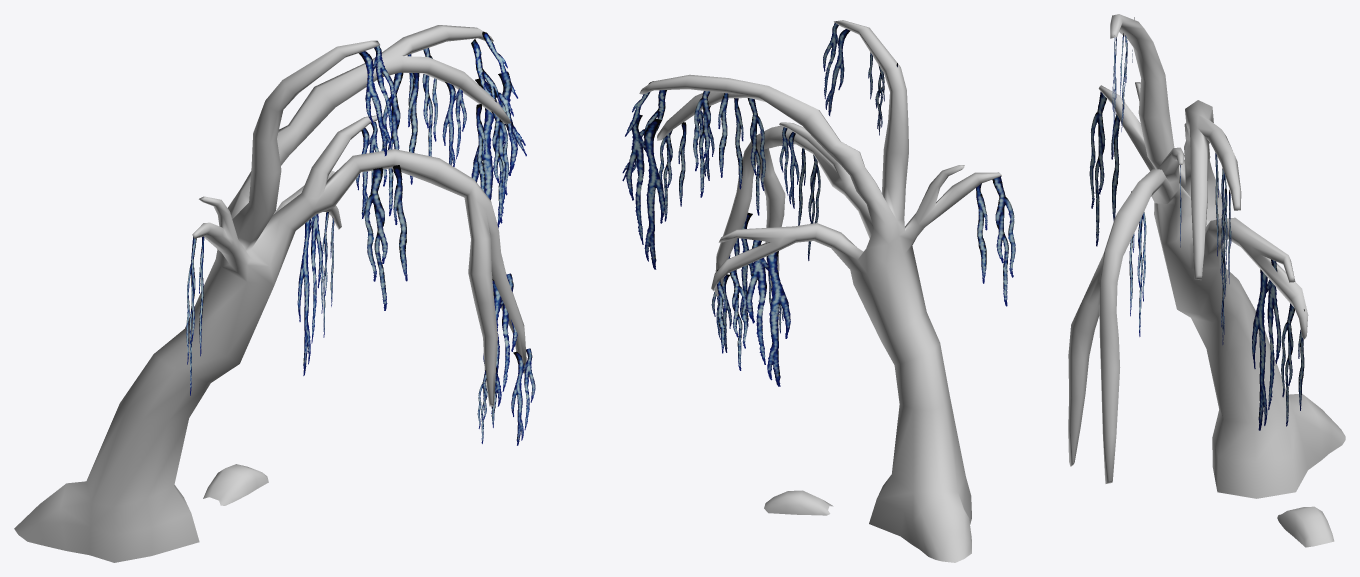
The model's file is StringyTree.fbx.
3 renders of one model, left to right at view 1: azimuth 30°, elevation 25°; view 2: azimuth 150°, elevation 25°; view 3: azimuth 270°, elevation 25°, orthographic. The views are drawn at different scales.
Visible parts, largest first — view 1: StringyTree, StringyTreeBranches; view 2: StringyTree, StringyTreeBranches; view 3: StringyTree, StringyTreeBranches.
Part boxes in pixels (bbox=[...]): StringyTree: bbox=[14, 25, 526, 562]; StringyTreeBranches: bbox=[186, 31, 535, 445]; StringyTree: bbox=[639, 20, 1001, 562]; StringyTreeBranches: bbox=[622, 23, 1015, 386]; StringyTree: bbox=[1068, 14, 1345, 547]; StringyTreeBranches: bbox=[1089, 17, 1304, 430].
Bounding box in the file's own units: 11.01 × 10.81 × 5.18.
